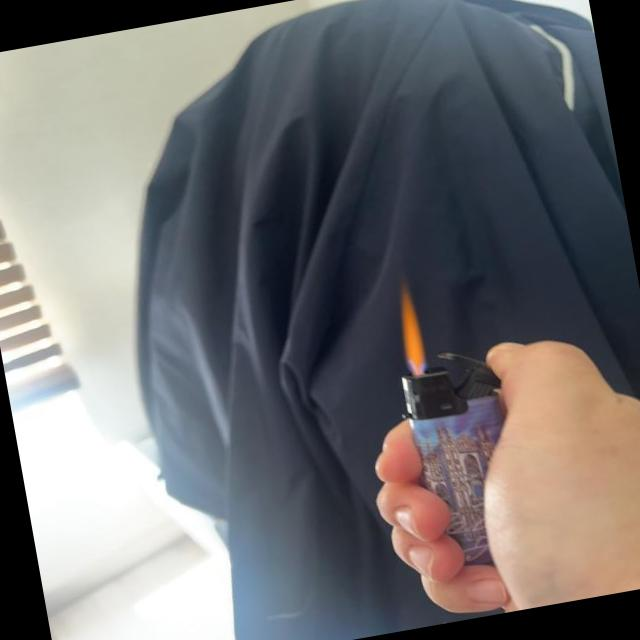Fire: (391, 279, 428, 372)
